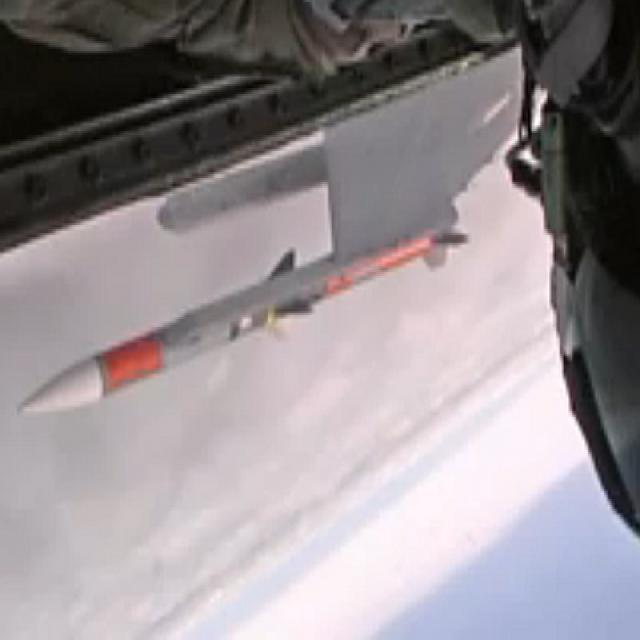missile: (12, 219, 476, 421)
